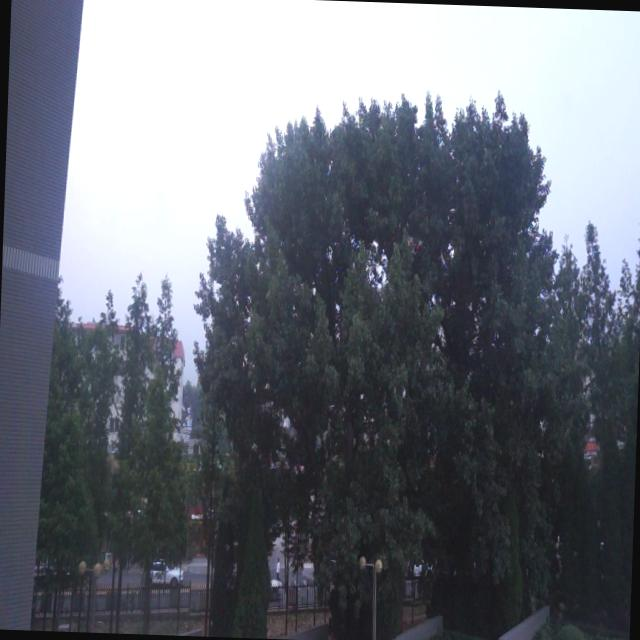drone: (404, 233, 426, 260)
